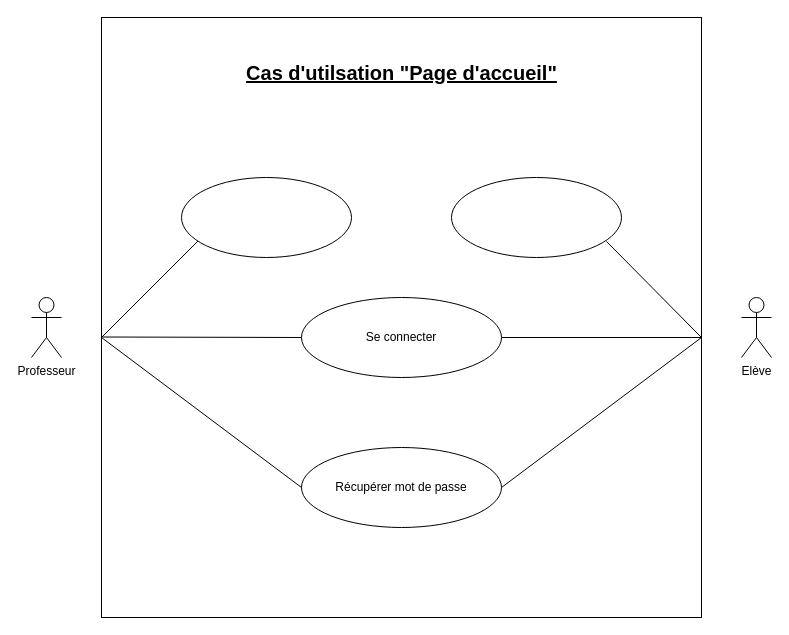
Some shapes in this 789 by 635 pixel diagram are drawn without their labels. Here are the shapes that lost their labels. From the top down, the centre of each, then its label:
point (266, 217): Créer un compte "professeur"
point (536, 217): Créer un compte "élève"
